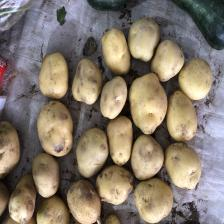Bud: (52, 142, 65, 153), (188, 169, 198, 177), (145, 112, 157, 117), (142, 196, 149, 204), (44, 130, 50, 136), (120, 53, 126, 59), (173, 155, 179, 161), (38, 162, 46, 166), (57, 214, 62, 220), (148, 182, 153, 188), (186, 119, 192, 123), (51, 126, 55, 132), (116, 188, 119, 195), (64, 140, 68, 145), (148, 25, 153, 29), (147, 150, 151, 155), (89, 69, 93, 74), (118, 152, 124, 155), (132, 33, 138, 36), (50, 218, 54, 222), (206, 77, 208, 85), (119, 133, 124, 136), (116, 100, 122, 102), (51, 186, 57, 188), (95, 135, 99, 138)
Diseased-fungal potato: (131, 71, 166, 133), (36, 99, 74, 156), (133, 175, 174, 224), (65, 178, 102, 224), (170, 144, 208, 188), (95, 165, 134, 206), (76, 126, 107, 177), (167, 92, 198, 142), (7, 170, 36, 223), (100, 29, 132, 76), (133, 132, 165, 178), (129, 13, 160, 60), (106, 114, 133, 167), (72, 60, 102, 106), (152, 39, 184, 82), (178, 61, 212, 101), (31, 152, 60, 196), (0, 121, 22, 178), (100, 77, 127, 123), (36, 198, 67, 224)
Potato: (39, 52, 69, 97)
